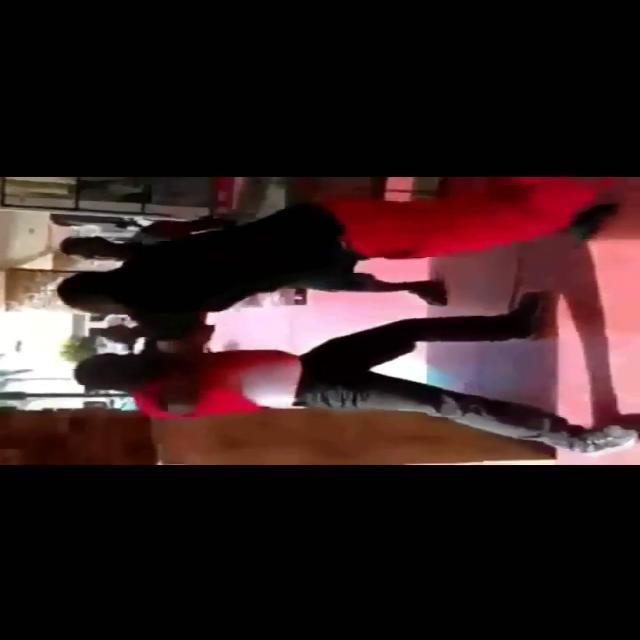Violence: (58, 195, 560, 418)
